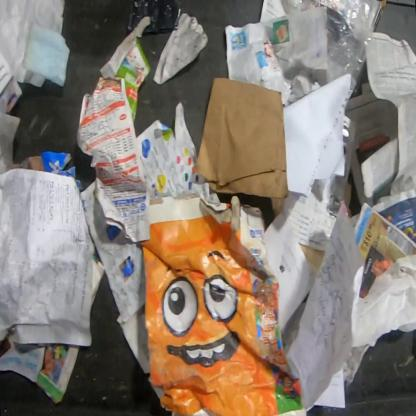cardboard: (134, 190, 315, 415), (194, 76, 290, 216), (11, 149, 86, 192), (35, 342, 82, 405), (90, 254, 107, 314)
rigid_plastic: (311, 114, 357, 218)
soft_plastic: (283, 0, 376, 93)
